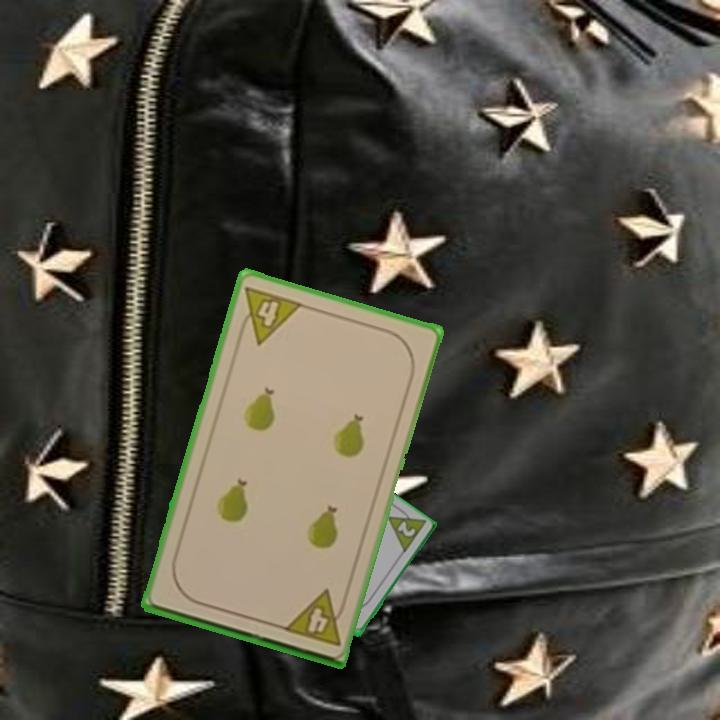2p: (383, 501, 428, 558)
4p: (233, 282, 306, 348), (279, 586, 350, 649)
